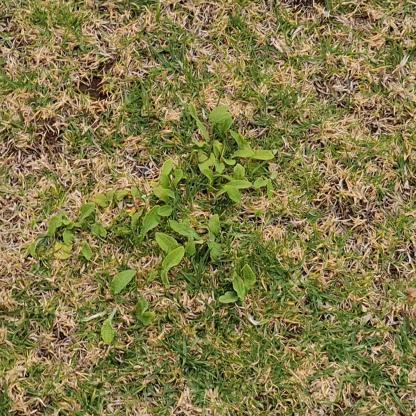Weeds: (31, 102, 274, 345)
